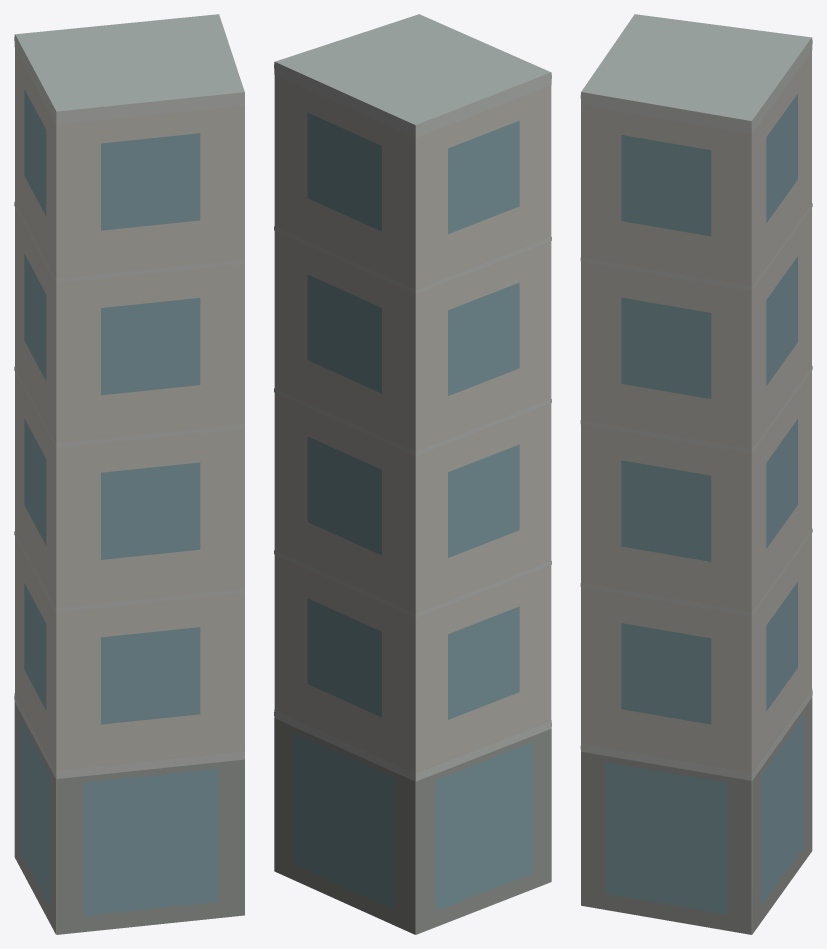
Rendered from survey-upis-32817748.glb.
The picture shows the model from 3 angles, left to right: view 1: azimuth 30°, elevation 25°; view 2: azimuth 150°, elevation 25°; view 3: azimuth 270°, elevation 25°; orthographic projection.
Parts seen in each view (by area): view 1: survey-upis-32817748.tmp; view 2: survey-upis-32817748.tmp; view 3: survey-upis-32817748.tmp.
Boxes of the visible parts, bbox=[...] form: survey-upis-32817748.tmp: bbox=[14, 14, 244, 934]; survey-upis-32817748.tmp: bbox=[274, 14, 551, 934]; survey-upis-32817748.tmp: bbox=[580, 14, 812, 934].
Bounding box in the file's own units: 4.33 × 15.25 × 3.95.
